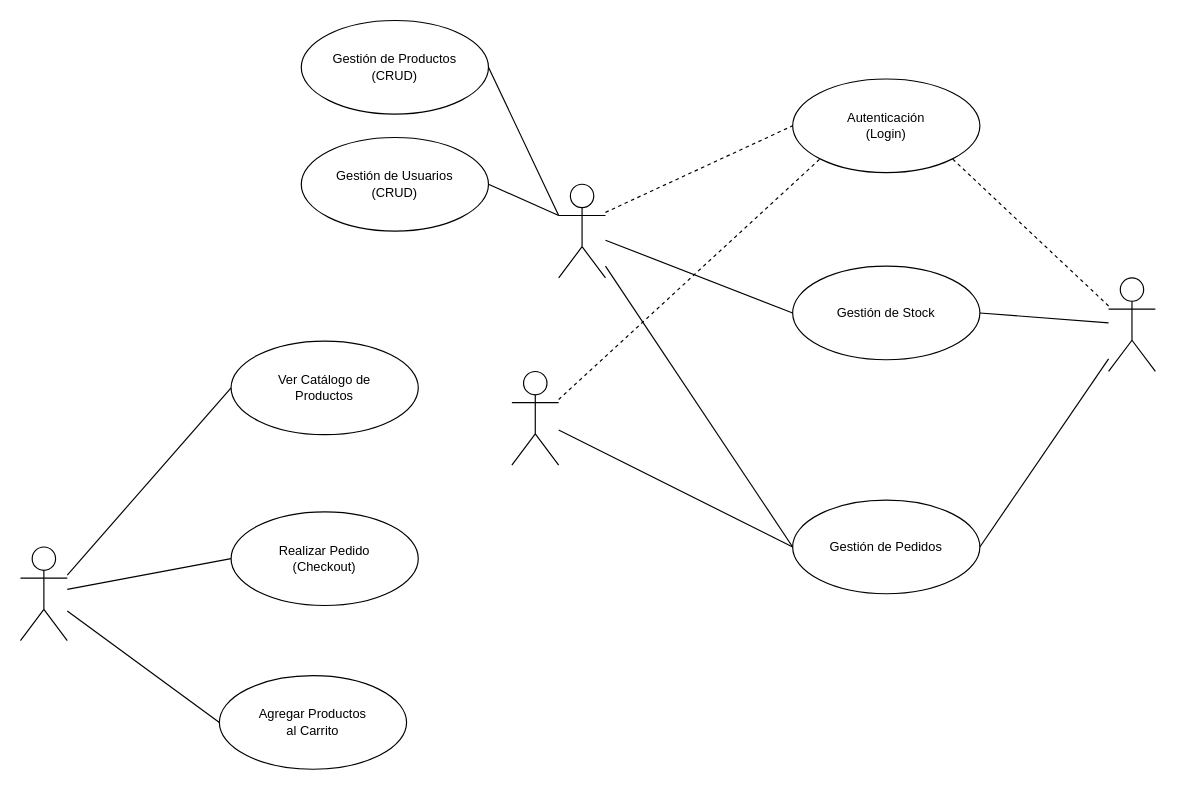
Image size: 1177x790. Some labels were removed from this diagram. The shapes that lost their labels are listed below. From the top down, each one's centre as x and y in pixels, then its label:
At point (581, 230): "Admin".
At point (1131, 324): "Soporte".
At point (535, 417): "Vendedor".
At point (43, 593): "Cliente".
